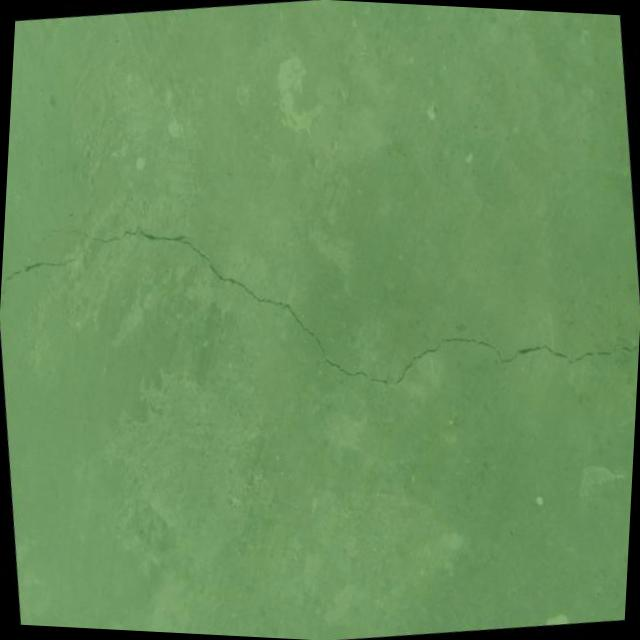crack: (39, 156, 640, 451), (1, 253, 80, 300)
